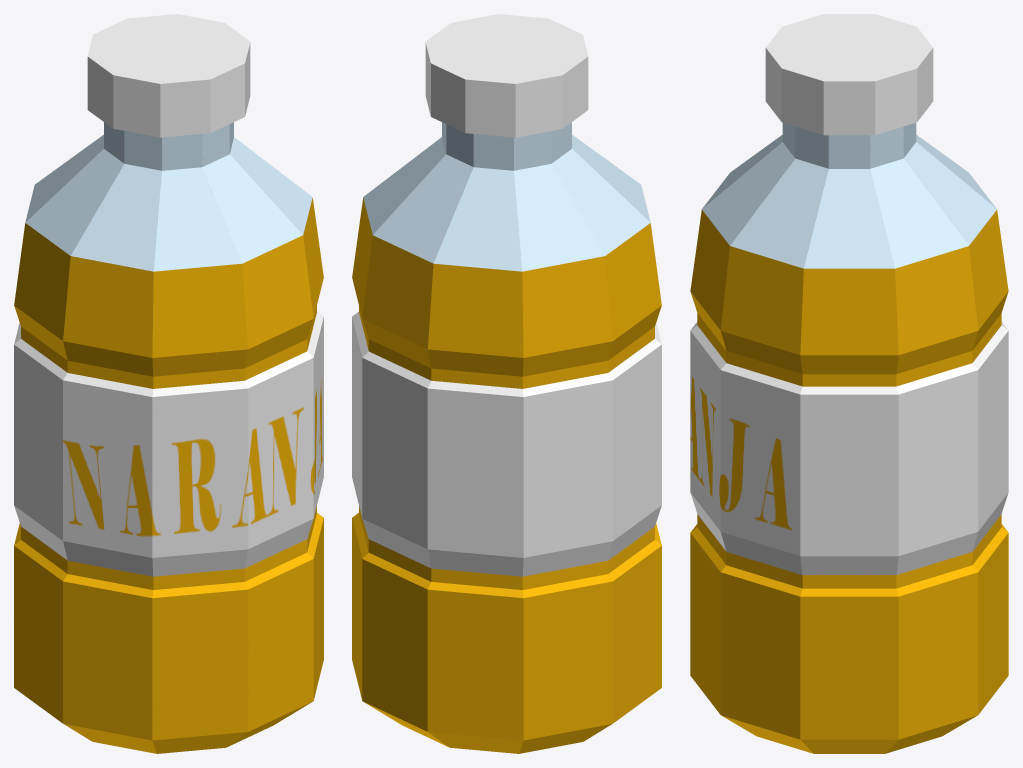
Rendered from BotellaNaranja.fbx.
The picture shows the model from 3 angles, left to right: view 1: azimuth 30°, elevation 25°; view 2: azimuth 150°, elevation 25°; view 3: azimuth 270°, elevation 25°; orthographic projection.
Visible parts, largest first — view 1: p6_botella_agua_naranja; view 2: p6_botella_agua_naranja; view 3: p6_botella_agua_naranja.
Boxes of the visible parts, x1,y1,x2,y2 form: p6_botella_agua_naranja: (14,14,323,753); p6_botella_agua_naranja: (352,14,661,753); p6_botella_agua_naranja: (690,14,1008,753).
Size of the model in its own units: 0.2036 by 0.49 by 0.2141.
